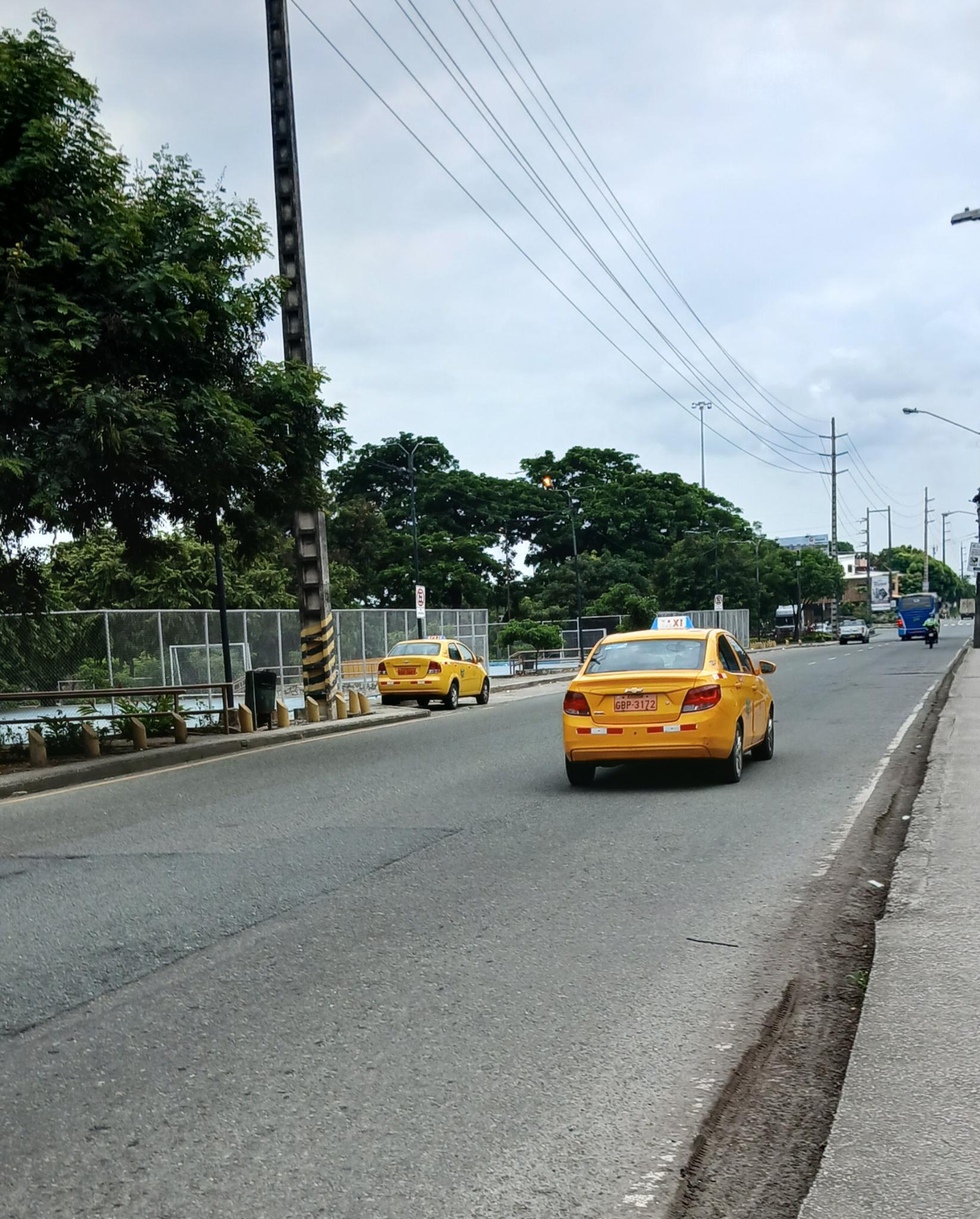license_plate: (611, 695, 656, 711), (397, 667, 415, 674)
